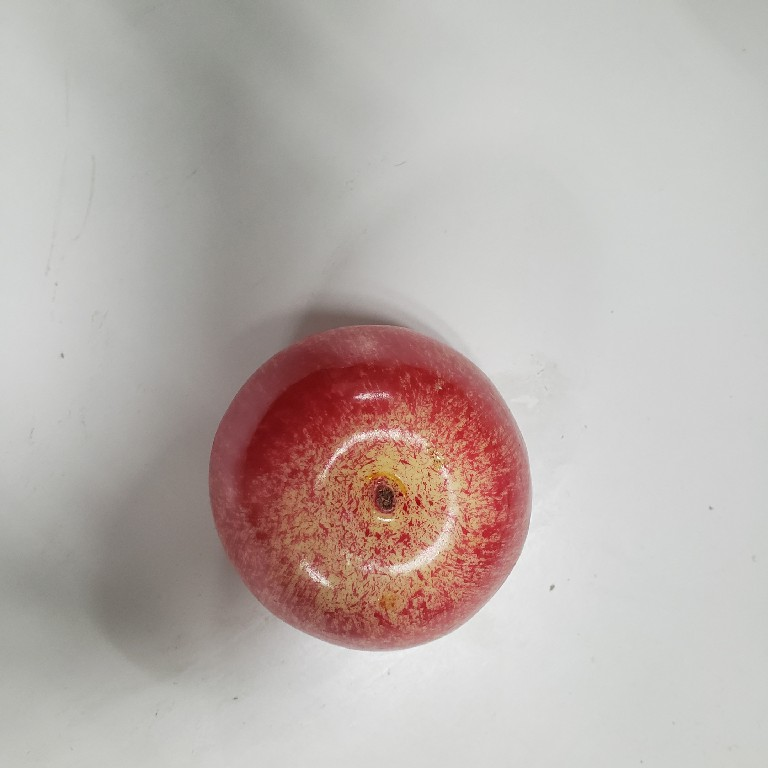fruit_apple: (203, 318, 538, 656)
